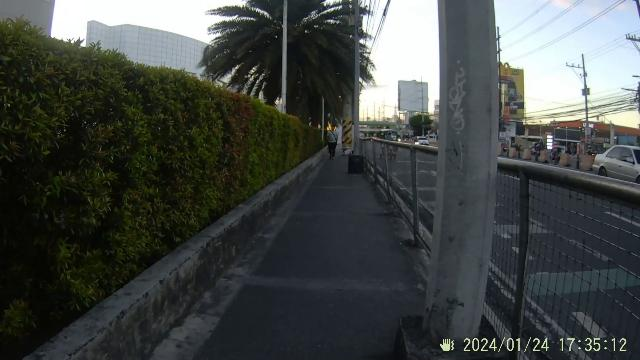utility_post: (427, 0, 493, 342), (348, 0, 366, 174), (622, 25, 640, 133), (564, 52, 592, 121), (622, 72, 640, 148), (623, 27, 640, 106)
